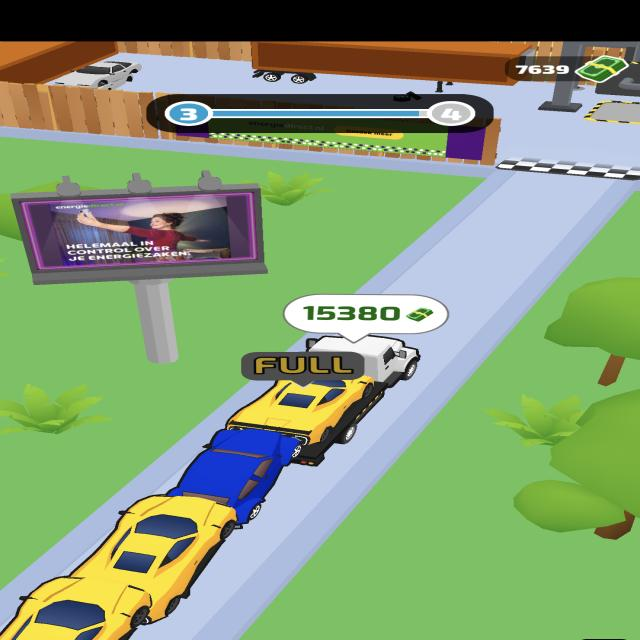billboard: (14, 190, 261, 274)
